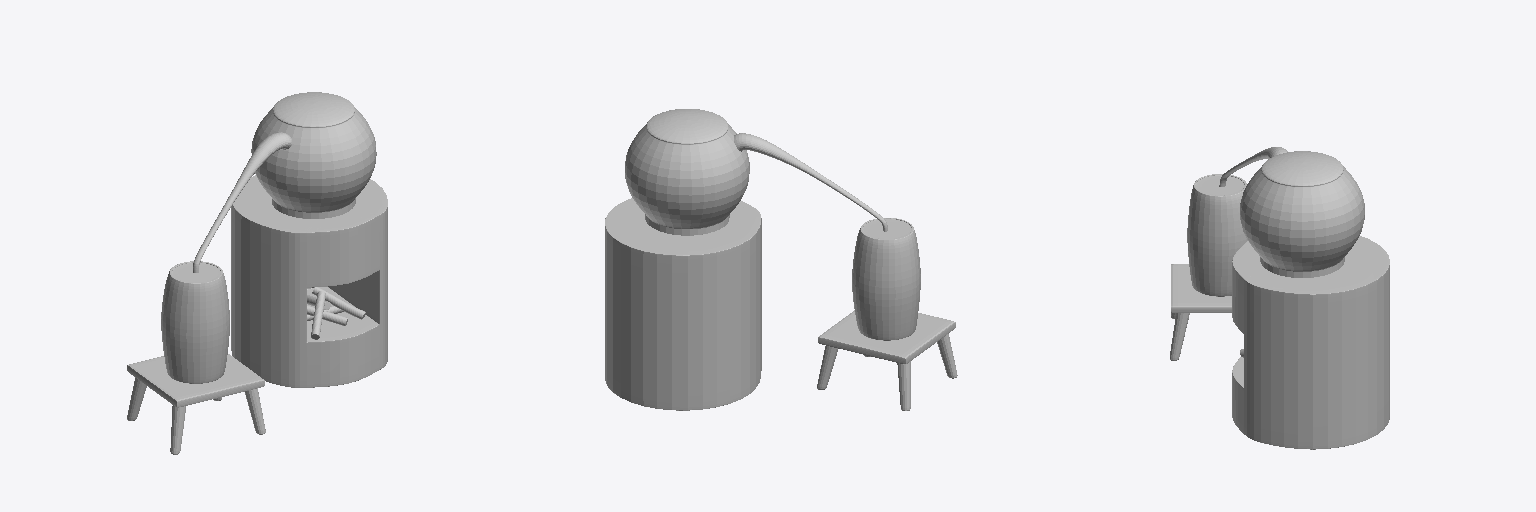
File: Distiller.obj
The picture shows the model from 3 angles: view 1: azimuth 30°, elevation 25°; view 2: azimuth 150°, elevation 25°; view 3: azimuth 270°, elevation 25°; orthographic projection.
Parts seen in each view (by area): view 1: BrewMaker_BrewMaker; view 2: BrewMaker_BrewMaker; view 3: BrewMaker_BrewMaker.
Part boxes in pixels (left/top/right/bottom): BrewMaker_BrewMaker: left=127, top=92, right=387, bottom=454; BrewMaker_BrewMaker: left=605, top=109, right=957, bottom=410; BrewMaker_BrewMaker: left=1170, top=147, right=1389, bottom=449.
Bounding box in the file's own units: 460 × 409 × 322.